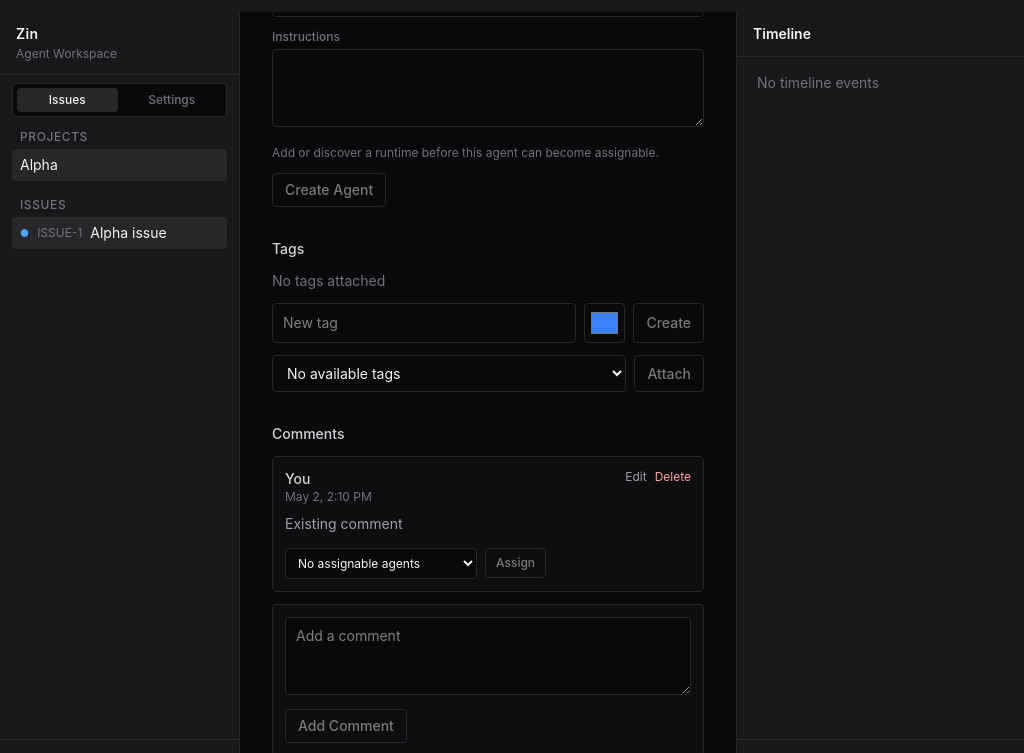
it: App › adds, edits, and deletes comments chronologically from the daemon
(page scrolled)
Check: the text "Existing comment" is shown, box [285,515,402,532]
In the text box with placeholder "Add a comment": {"x": 488, "y": 656} [285,617,691,695], type "Second comment"
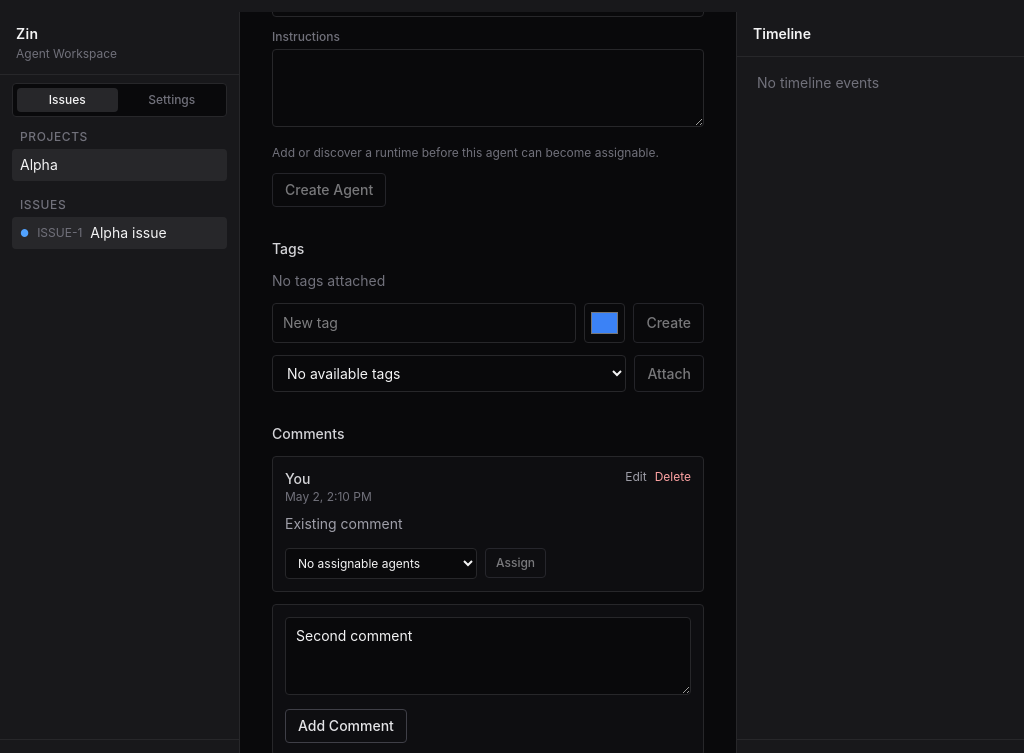
Click the button "Add Comment": {"x": 346, "y": 726} [285,709,407,743]
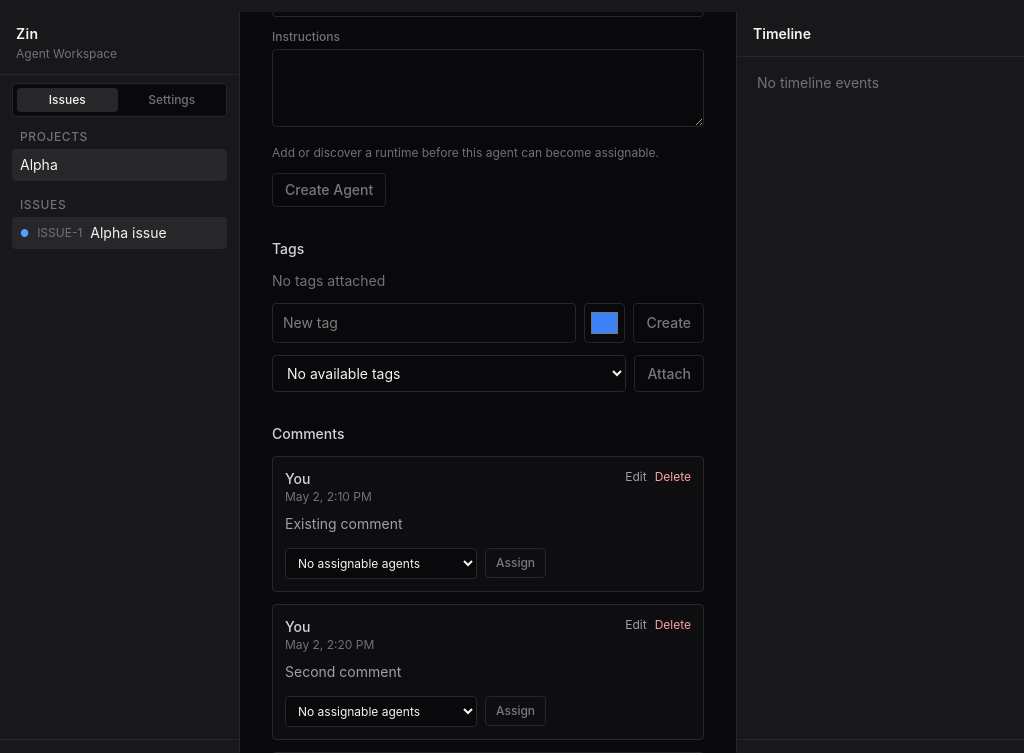
Click the 1st button "Edit": {"x": 636, "y": 477} [625,469,647,485]
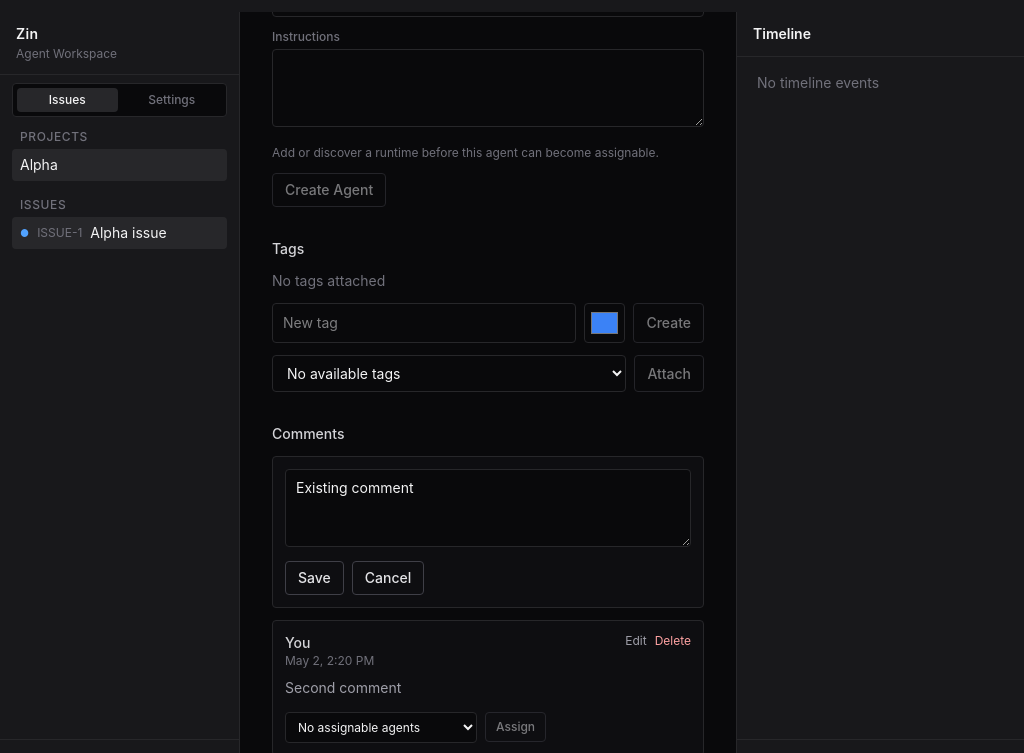
Replace the text in the text box showing "Existing comment" with "Edited comment": {"x": 488, "y": 508} [285,469,691,547]
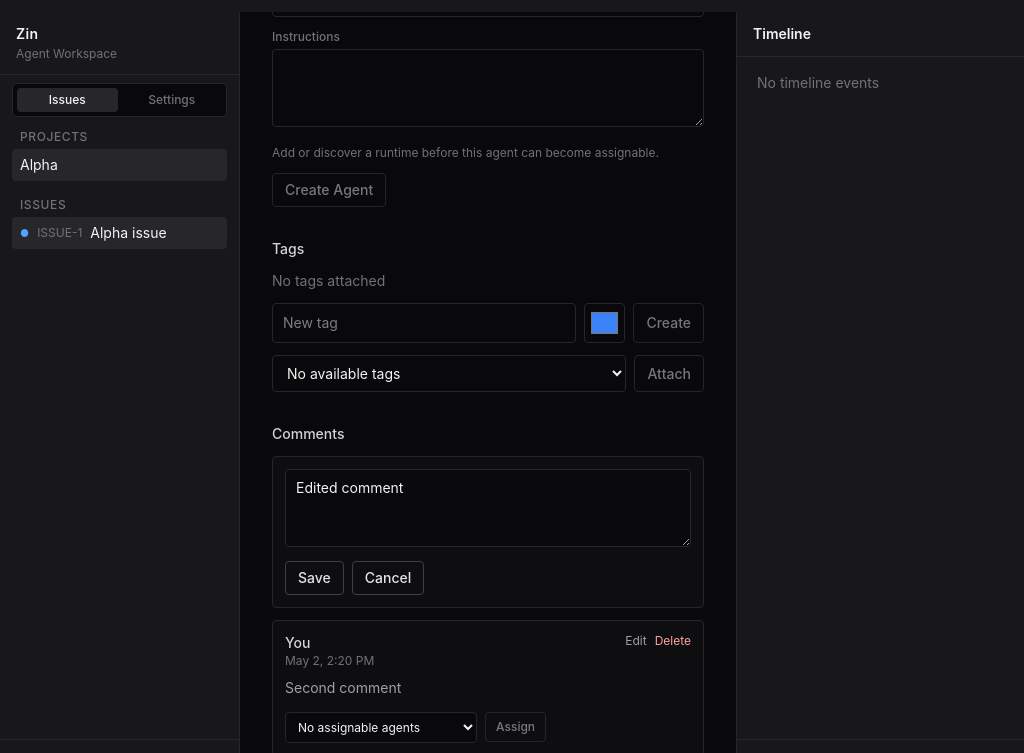
Click the button "Save": {"x": 314, "y": 578} [285,561,344,595]
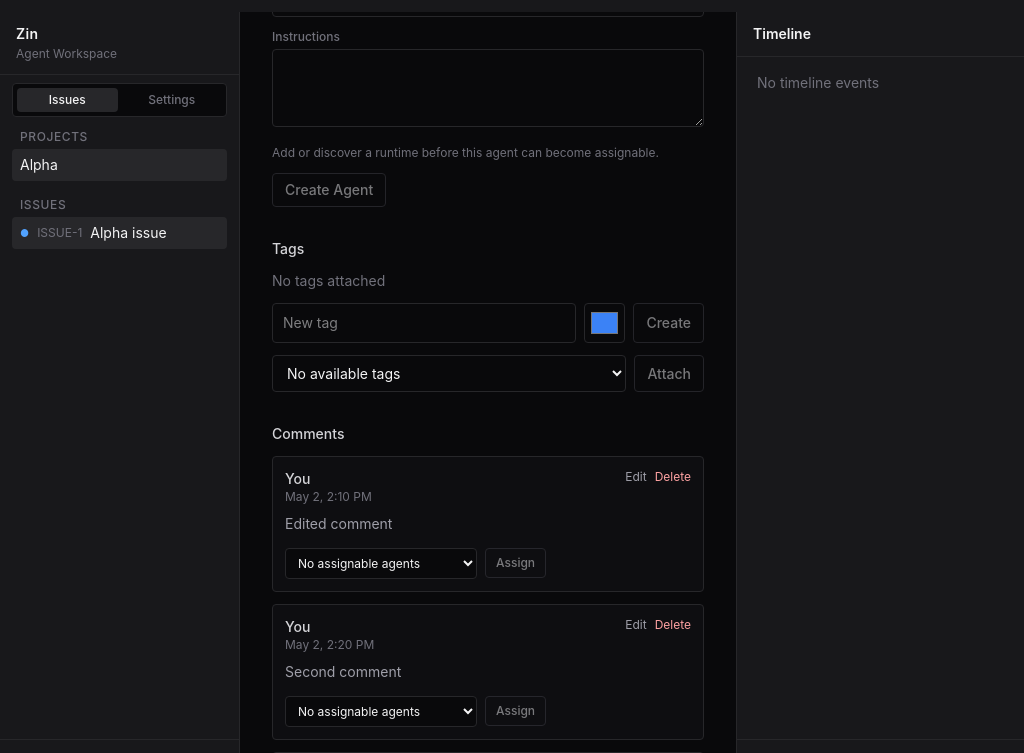
Check: the text "Edited comment" is shown, box [285,515,392,532]
Click the 2nd button "Delete": {"x": 673, "y": 625} [655,617,691,633]
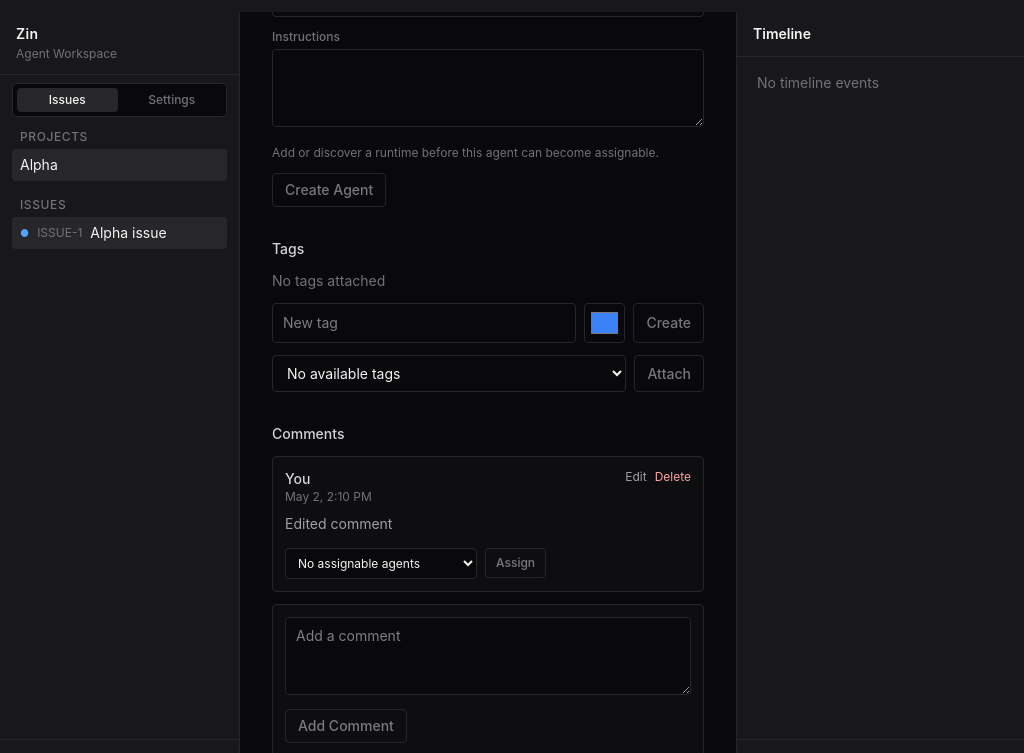
Check: the text "Second comment" is gone
